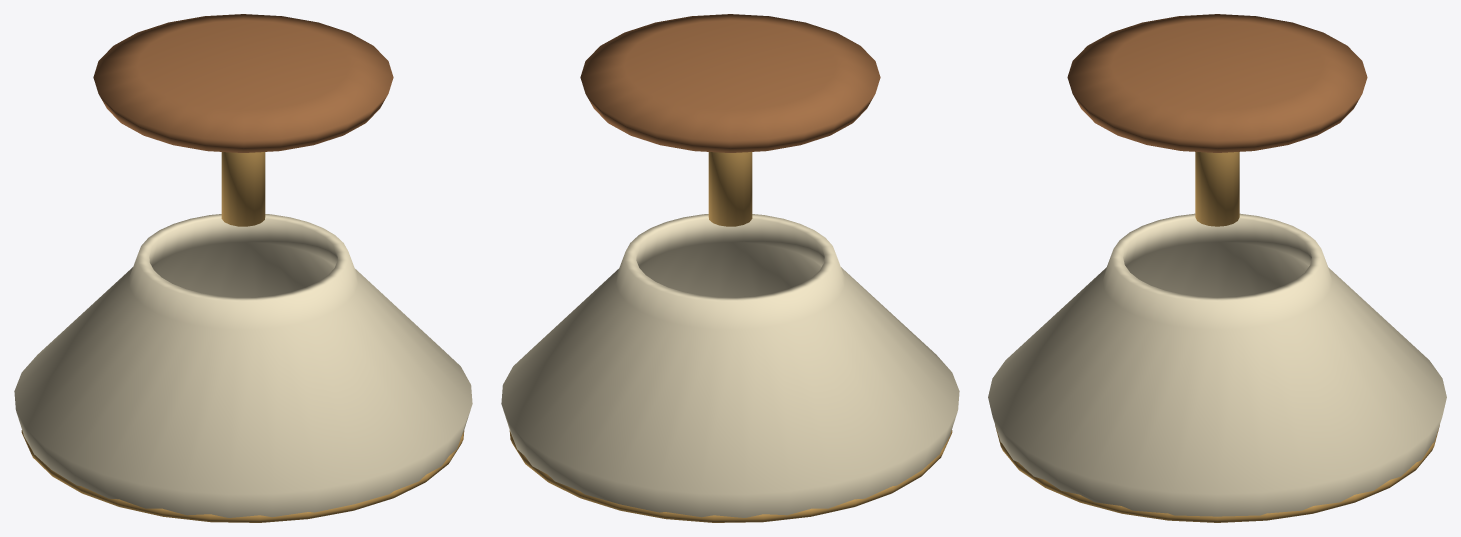
File: pendant.glb
3 renders of one model, left to right at view 1: azimuth 30°, elevation 25°; view 2: azimuth 150°, elevation 25°; view 3: azimuth 270°, elevation 25°, orthographic.
Visible parts, largest first — view 1: House07_pendant; view 2: House07_pendant; view 3: House07_pendant.
Part boxes in pixels (x1,y1,x2,y2): House07_pendant: [14, 14, 472, 522]; House07_pendant: [501, 14, 959, 522]; House07_pendant: [988, 14, 1446, 522].
Bounding box in the file's own units: 0.52 × 0.458 × 0.52.
